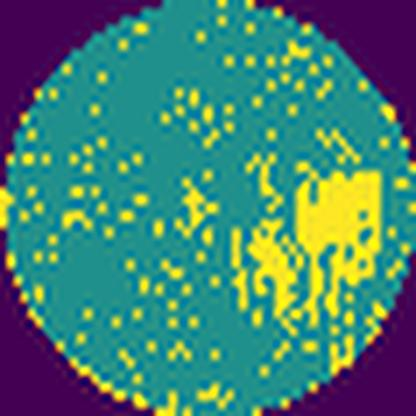Loc: (287, 162, 381, 331), (247, 214, 305, 342)
